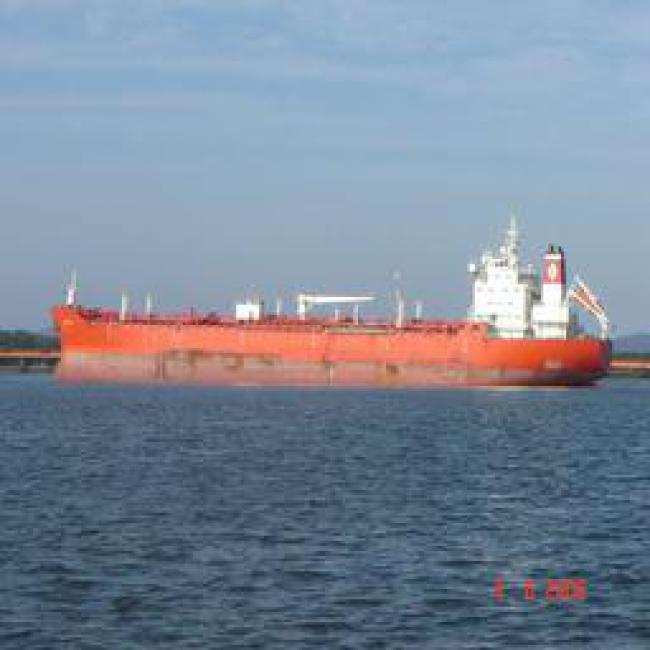Ship: (20, 279, 619, 404)
